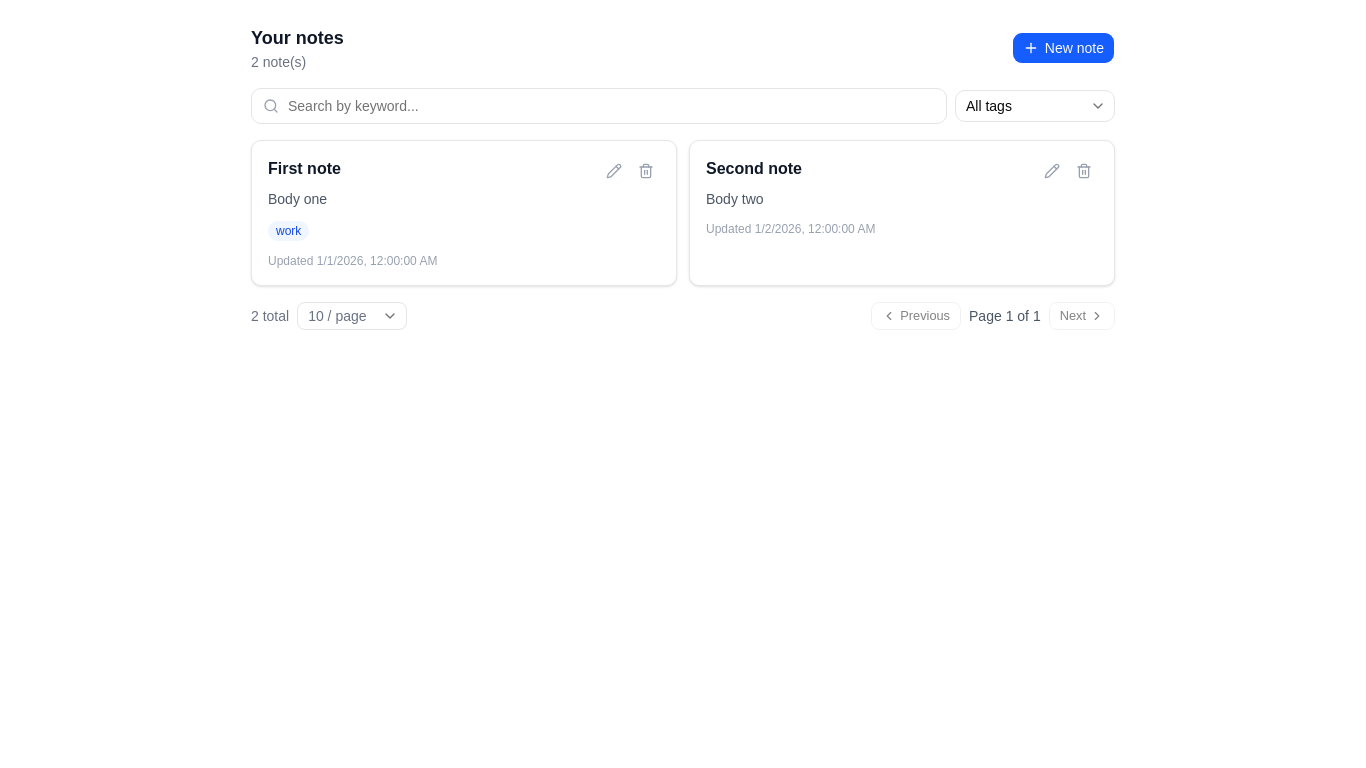
Test case: NotesPageClient › opens the delete confirmation dialog when a card's delete button is clicked
Click the button named "Delete First note" at (646, 171), box [632,157,660,185]
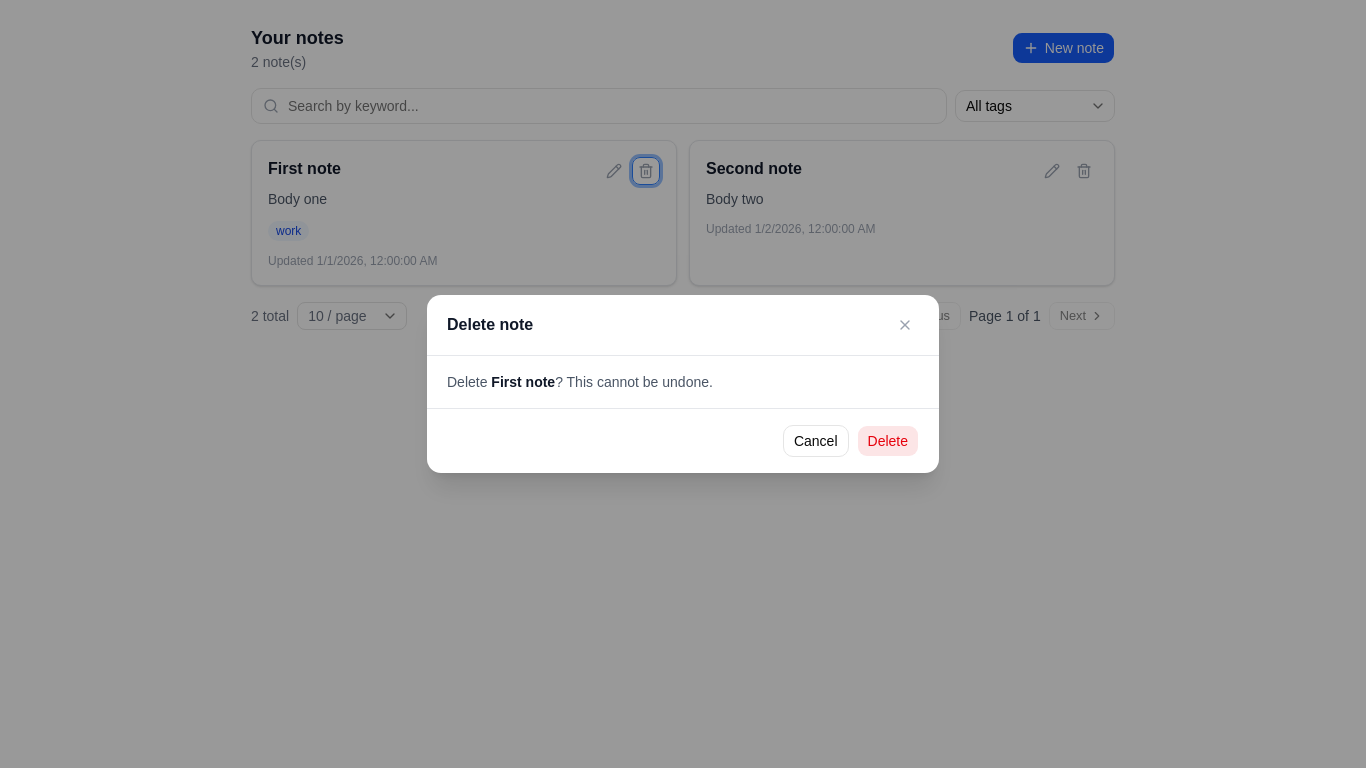
Result: the heading "Delete note" is shown at [447,313,533,337]
